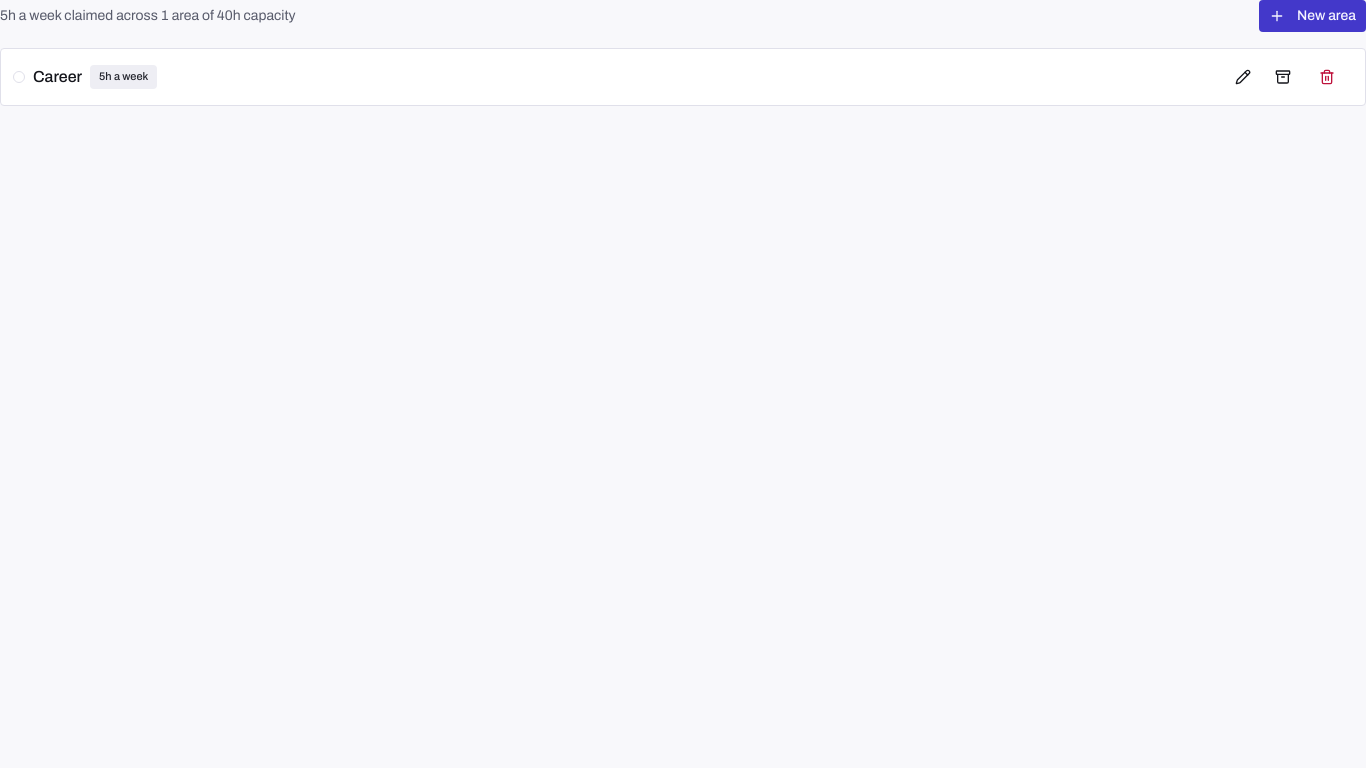
AreasView › opens the edit dialog pre-filled with the clicked area, then closes on escape
Click the button named "Edit Career".
click(1243, 77)  # box [1225,61,1261,93]
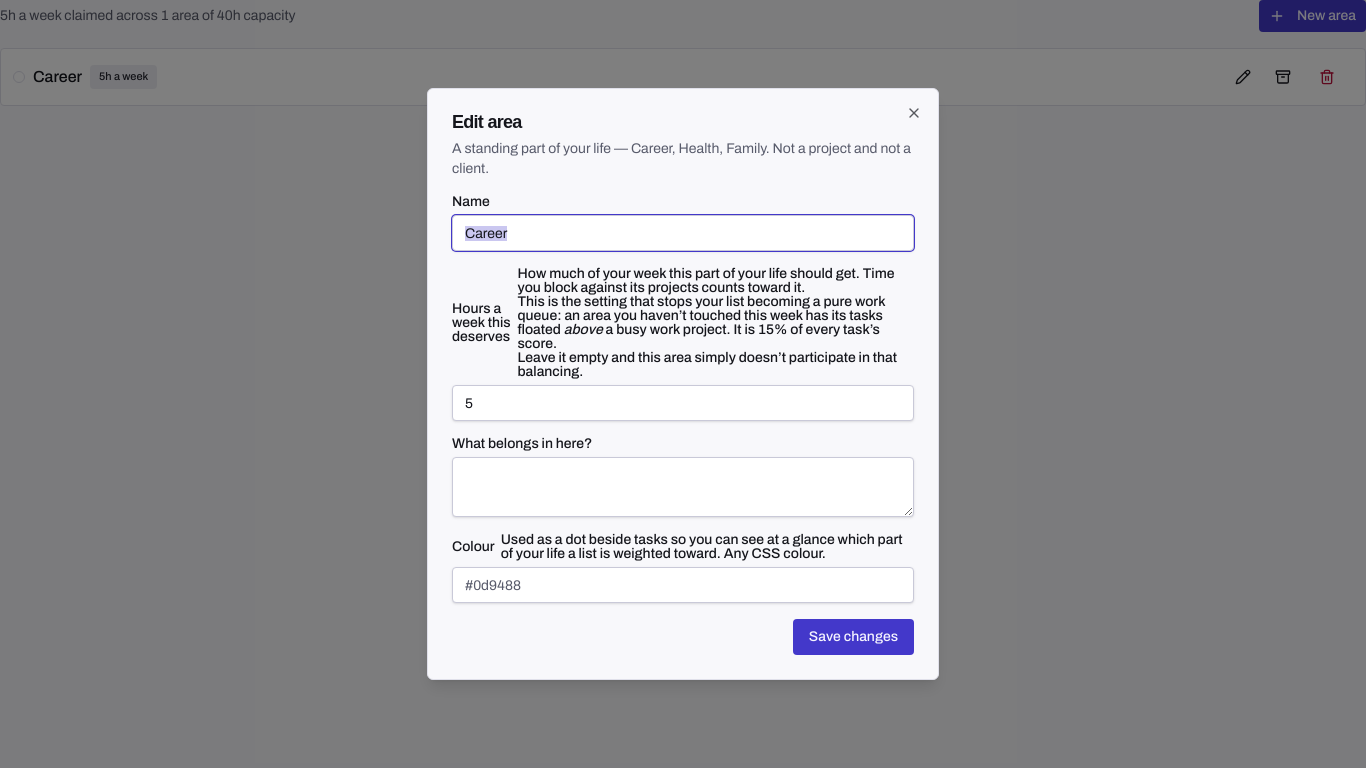
Expected: the heading "Edit area" is shown, [452,112,522,132]
Expected: the field labelled "Name" holds "Career", [452,215,914,251]
Press Escape
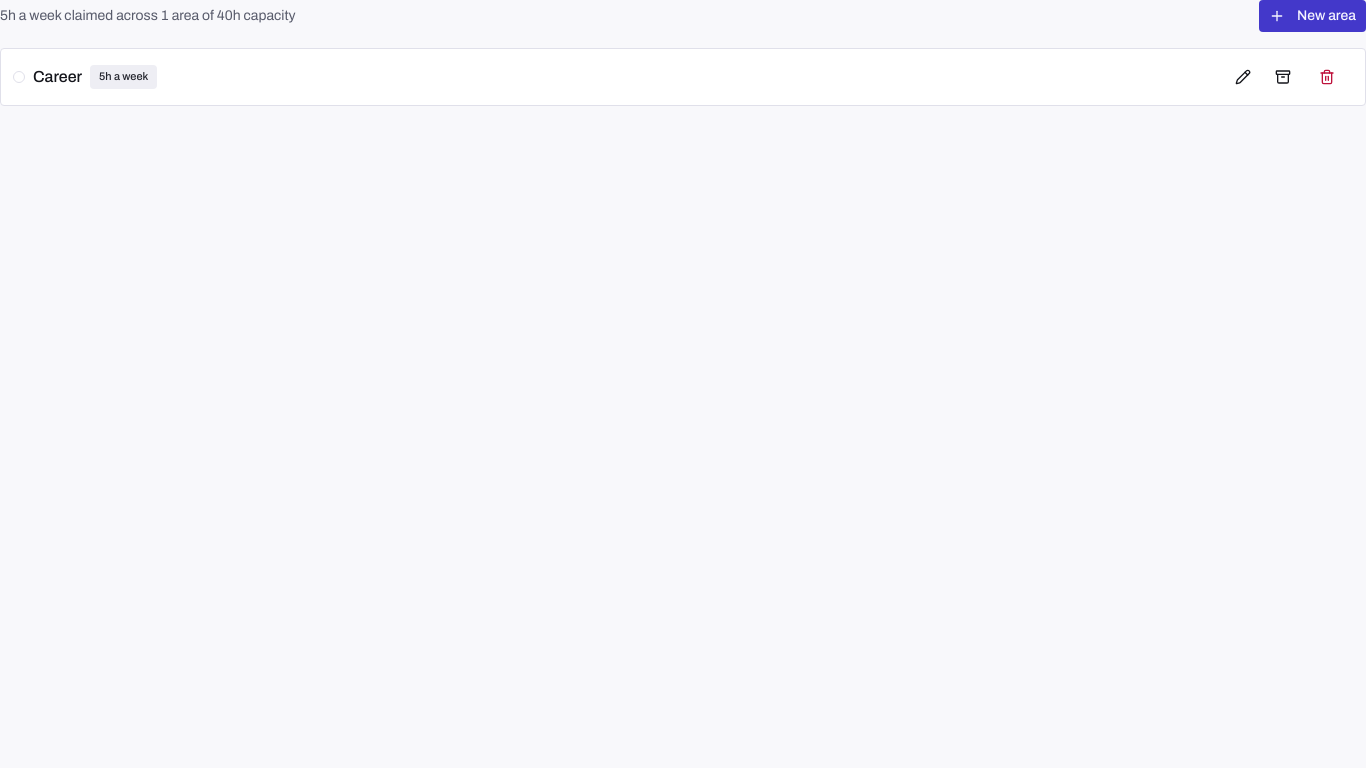
Expected: the dialog is gone
